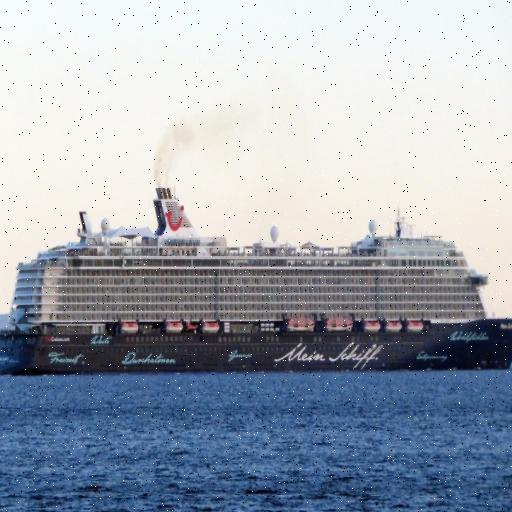cruises: (1, 183, 512, 379)
